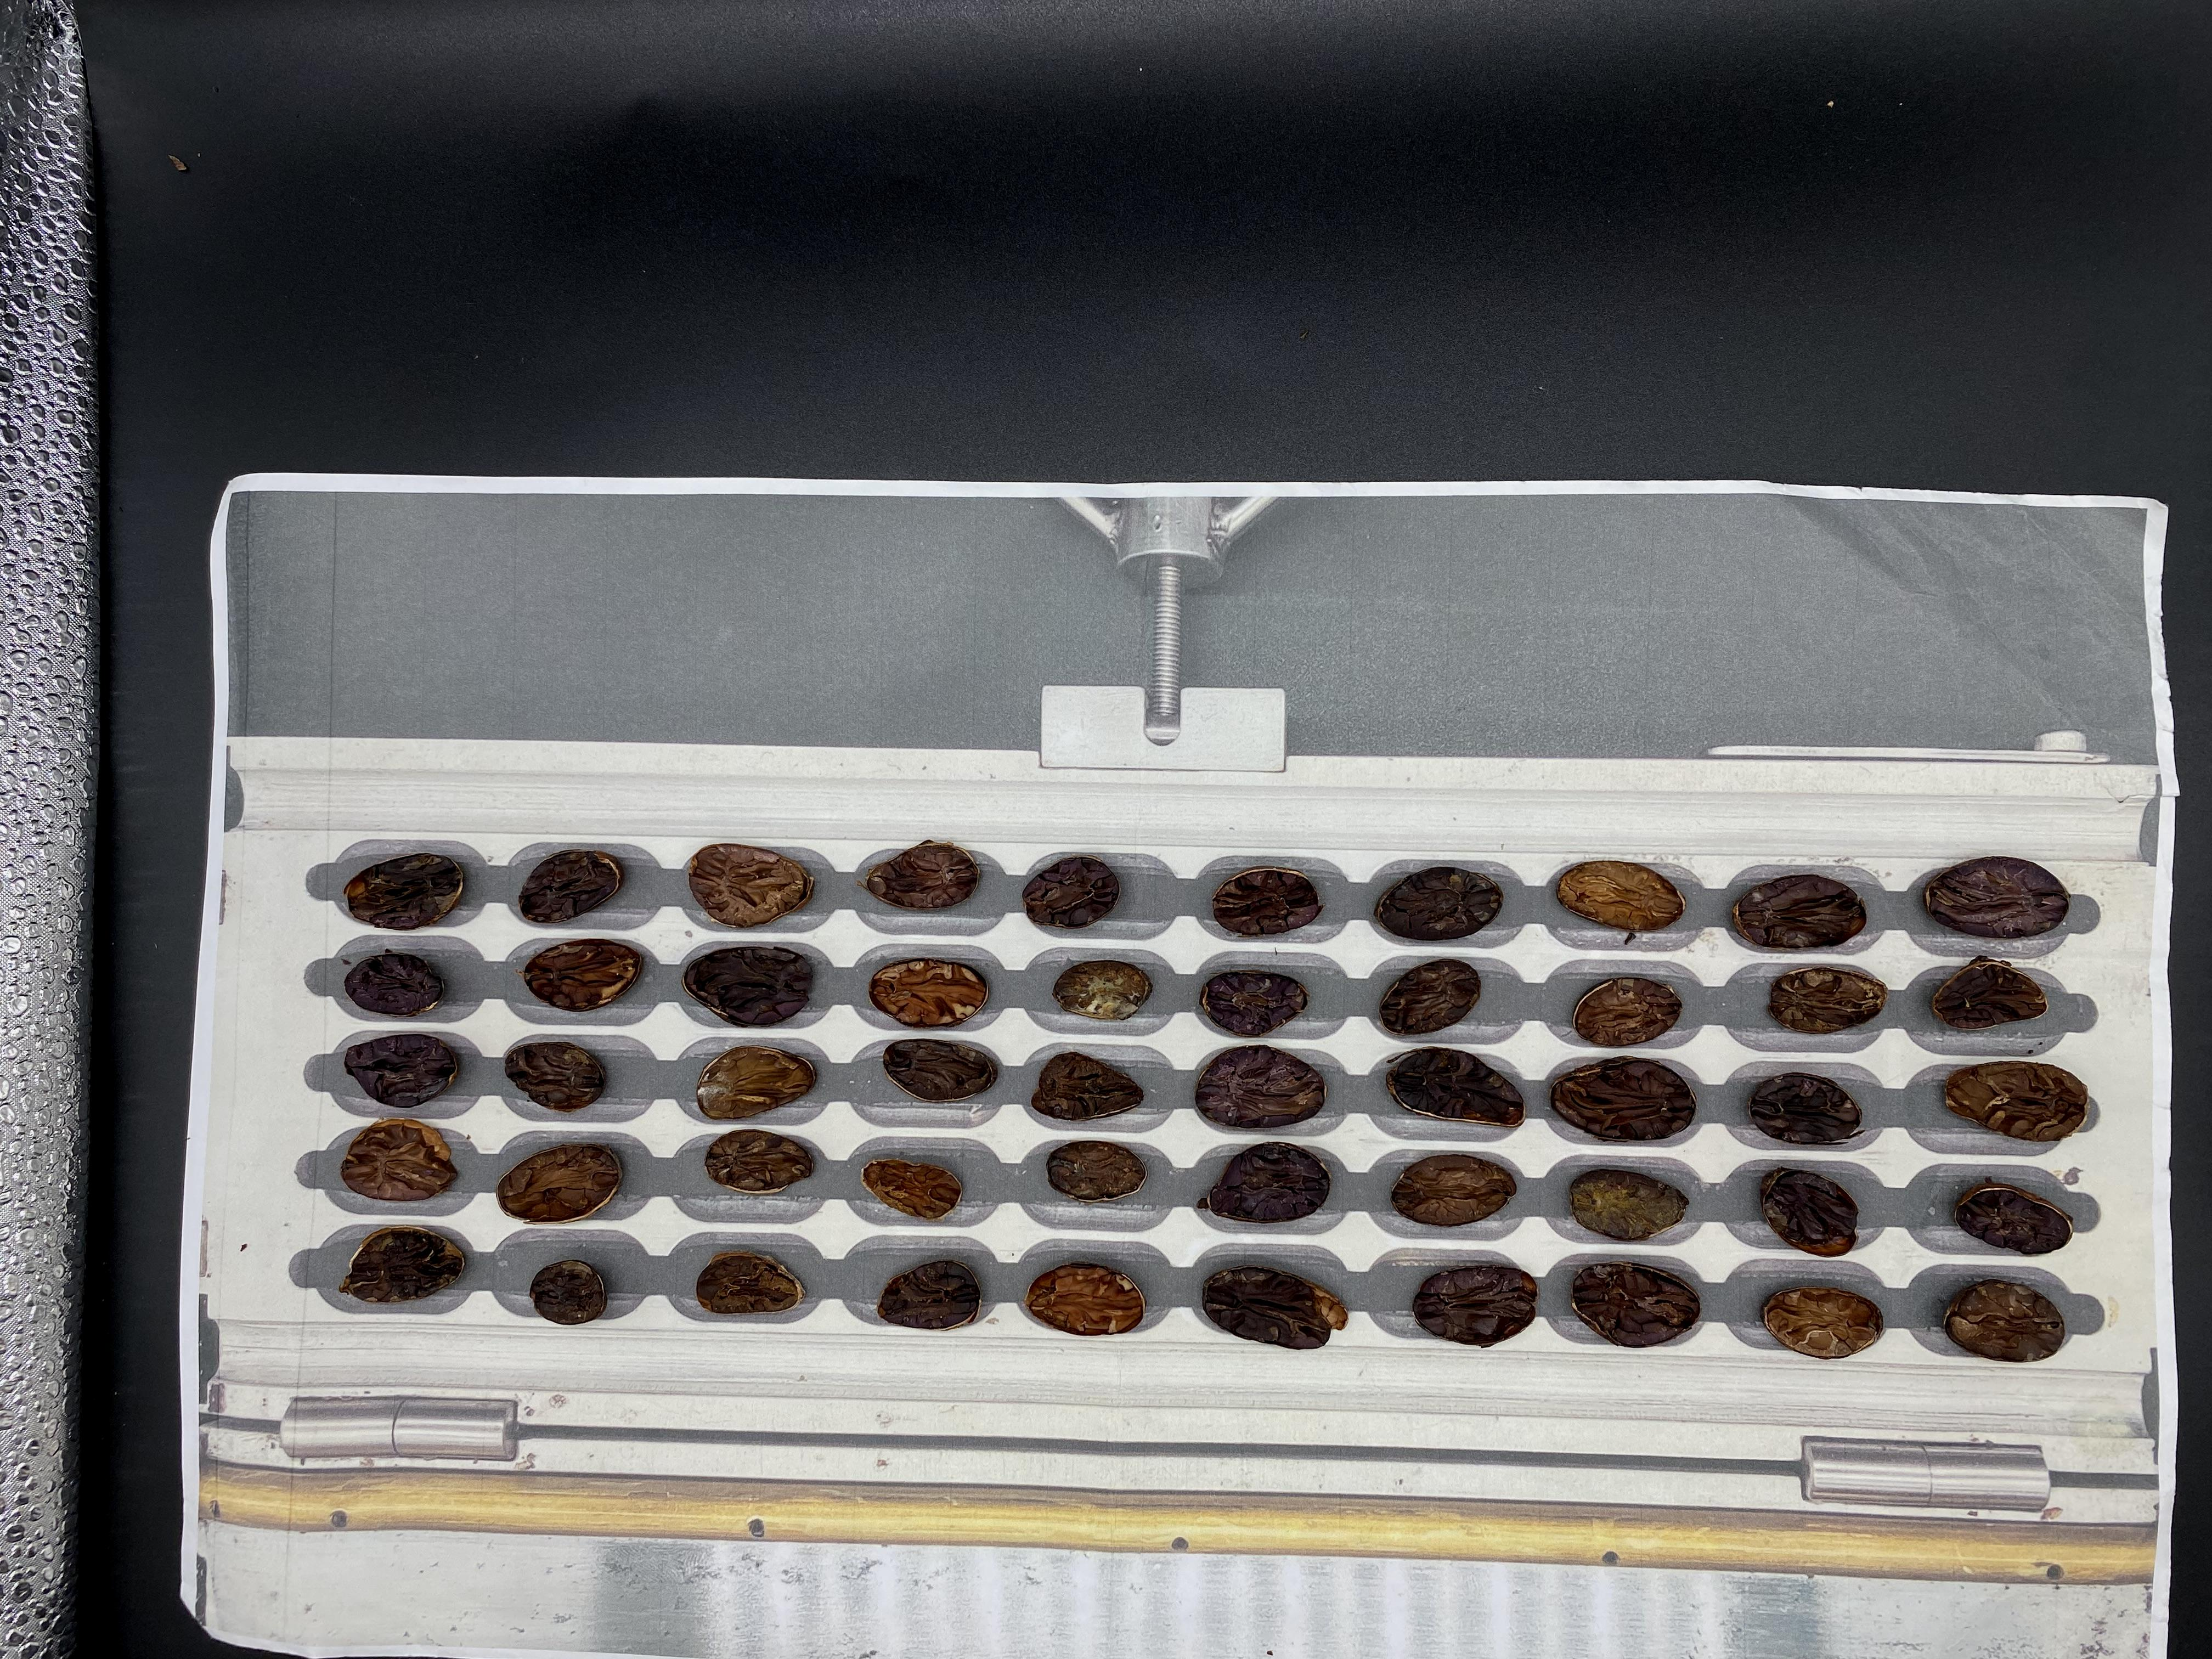Brown - G1: (1871, 533, 1958, 584), (1261, 563, 1327, 613), (1608, 636, 1676, 683), (1979, 488, 2054, 530), (1527, 483, 1594, 528), (1353, 472, 1418, 518), (1442, 572, 1507, 612), (1522, 586, 1583, 624)
Brown - G2: (2067, 538, 2153, 584), (1433, 425, 1507, 474), (1982, 650, 2050, 694), (1608, 532, 1674, 573), (1527, 423, 1590, 467), (1885, 495, 1946, 533)
Brown - G3: (2069, 647, 2141, 697), (1338, 577, 1409, 627), (1876, 432, 1952, 477), (1792, 584, 1860, 626), (1440, 633, 1501, 671)
Brown - G4: (1616, 577, 1674, 613)
Insect-damaged: (1883, 591, 1951, 634)
Mouldy: (1439, 528, 1508, 570), (1622, 484, 1676, 523)
Partly Purple - G1: (1433, 477, 1505, 523), (1700, 437, 1766, 477)
Partly Purple - G2: (1789, 528, 1869, 575), (1966, 437, 2041, 486), (1693, 528, 1766, 575), (1801, 641, 1874, 688), (1263, 427, 1329, 476), (1350, 427, 1409, 472), (1606, 430, 1660, 477), (1533, 636, 1590, 680)
Total Purple - G2: (1258, 523, 1327, 565), (1693, 488, 1761, 528)
Total Purple - G3: (2064, 432, 2142, 481), (1696, 577, 1771, 626), (2078, 598, 2146, 641), (1261, 479, 1320, 519)
Very Dark Brown - G1: (1693, 640, 1778, 690), (1258, 619, 1329, 669), (1979, 589, 2036, 641)
Very Dark Brown - G2: (1885, 638, 1956, 687), (1970, 540, 2043, 584), (1787, 484, 1848, 530), (2067, 486, 2130, 530), (1343, 525, 1402, 568)
Very Dark Brown - G3: (1782, 436, 1857, 481), (1534, 528, 1601, 565), (1353, 636, 1400, 678)
